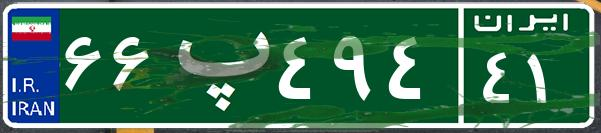1: (525, 38, 570, 115)
4: (385, 28, 445, 110), (273, 28, 330, 110), (475, 38, 525, 113)
6: (57, 26, 110, 107), (110, 28, 158, 105)
9: (330, 28, 385, 110)
پ: (158, 15, 273, 115)
